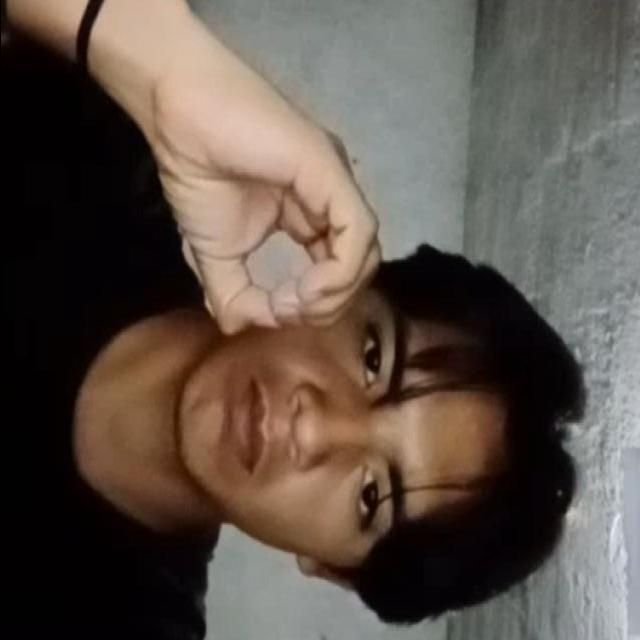O: (105, 38, 401, 350)
